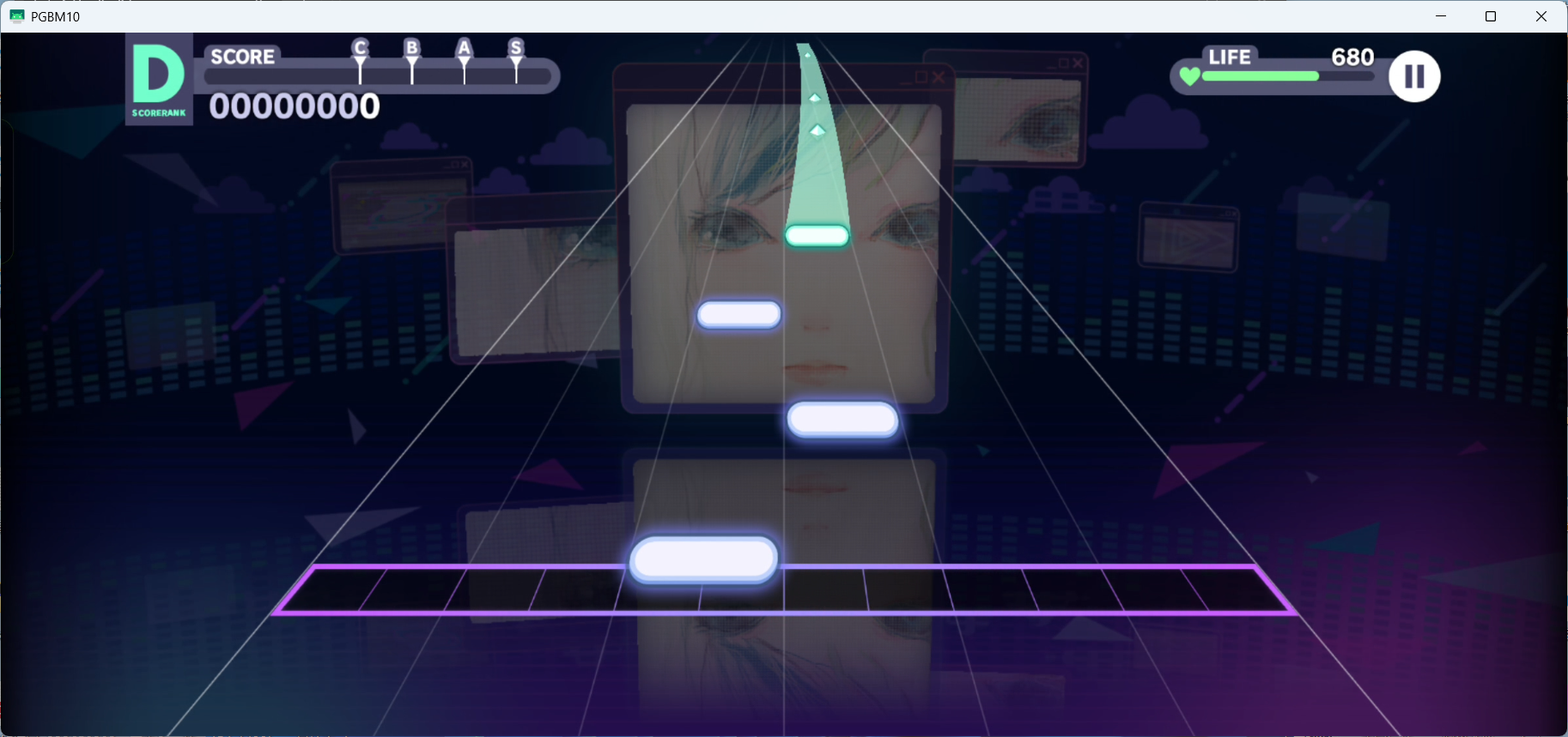hold: (786, 44, 850, 225)
sweep: (810, 124, 825, 141), (809, 94, 821, 105), (805, 52, 811, 59)
tap: (629, 535, 779, 586), (787, 401, 898, 439), (696, 301, 781, 329), (785, 226, 848, 246)
